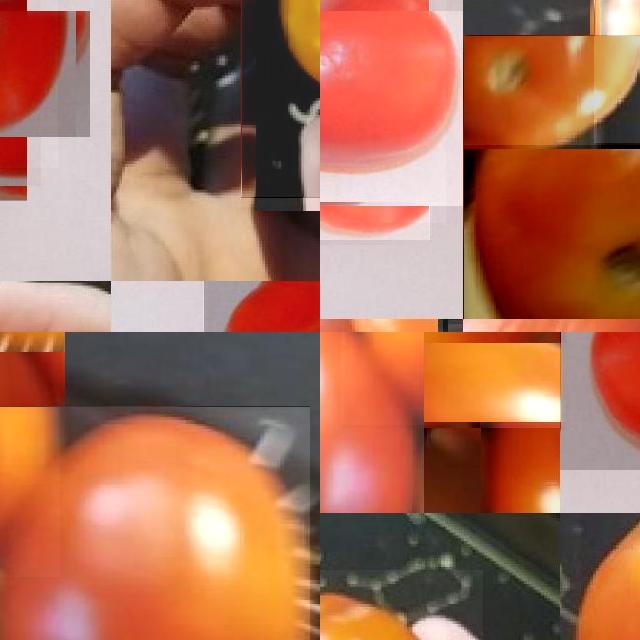Fresh Tomato: (0, 406, 310, 640), (463, 35, 640, 319), (320, 0, 446, 223), (341, 332, 563, 425), (320, 332, 424, 513), (560, 332, 640, 470), (0, 0, 58, 168)
